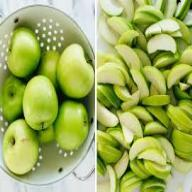apple: (20, 74, 57, 126), (4, 121, 38, 176), (57, 47, 94, 95), (53, 101, 90, 147), (4, 31, 40, 74), (2, 80, 27, 118), (41, 48, 58, 80)
